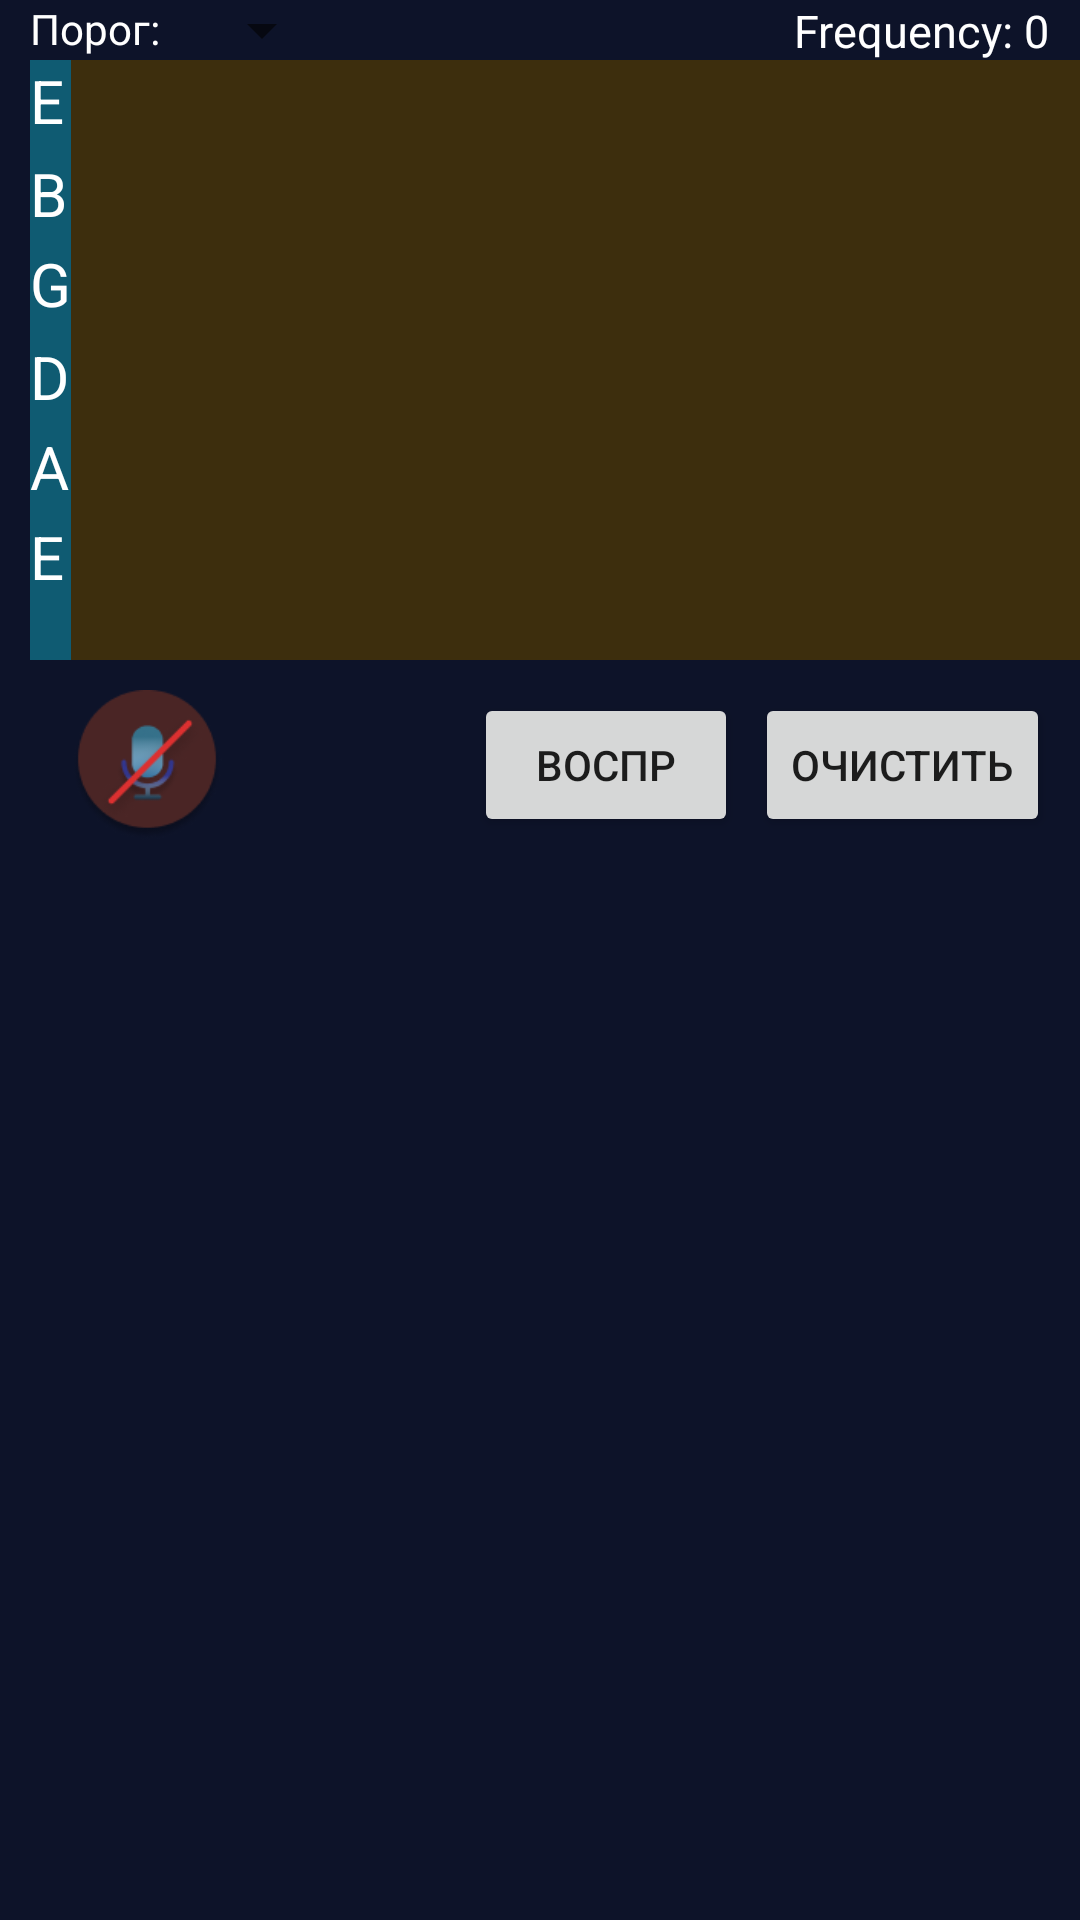

Where icons sit on this 1080x1920 app screen, as {"left": x1, "top": y1, "right": x2, "bottom": y2}:
no microphone: {"left": 78, "top": 690, "right": 216, "bottom": 828}
